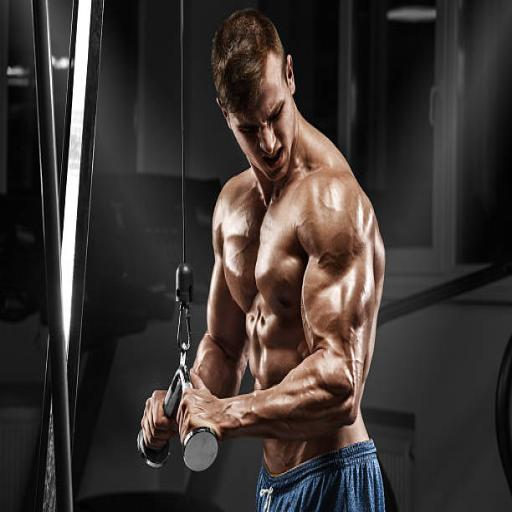Person: (131, 89, 398, 417)
no_gloves: (175, 321, 254, 384), (138, 323, 182, 387)
no_goggle: (229, 156, 298, 188)
no_helmet: (210, 82, 299, 178)
none: (196, 196, 390, 384)
